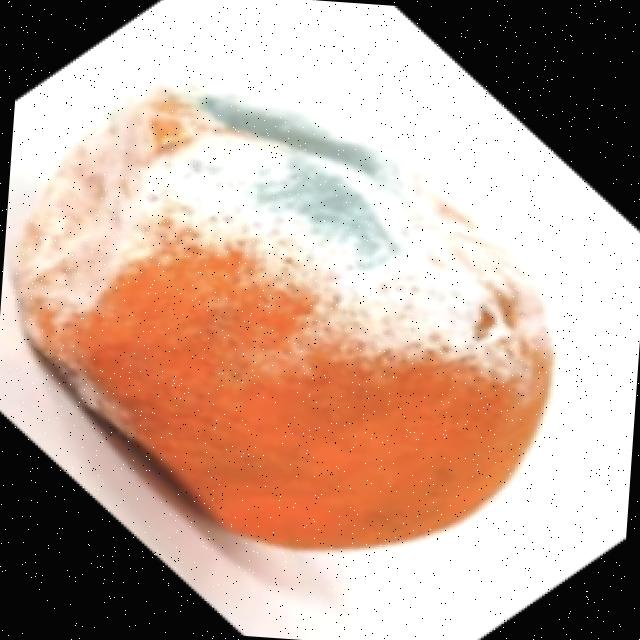Rotten: (0, 71, 573, 564)
